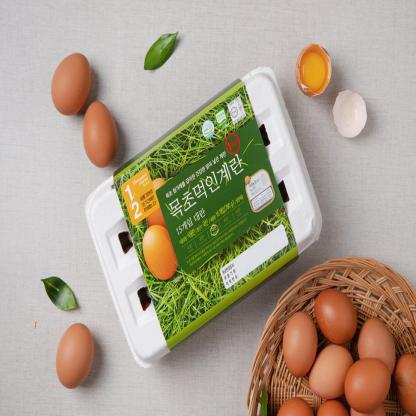egg: (73, 88, 122, 186), (46, 314, 102, 396), (41, 46, 94, 124), (277, 307, 320, 385), (353, 314, 398, 382), (306, 344, 357, 404), (344, 354, 393, 416), (315, 284, 357, 348), (384, 344, 416, 416)
